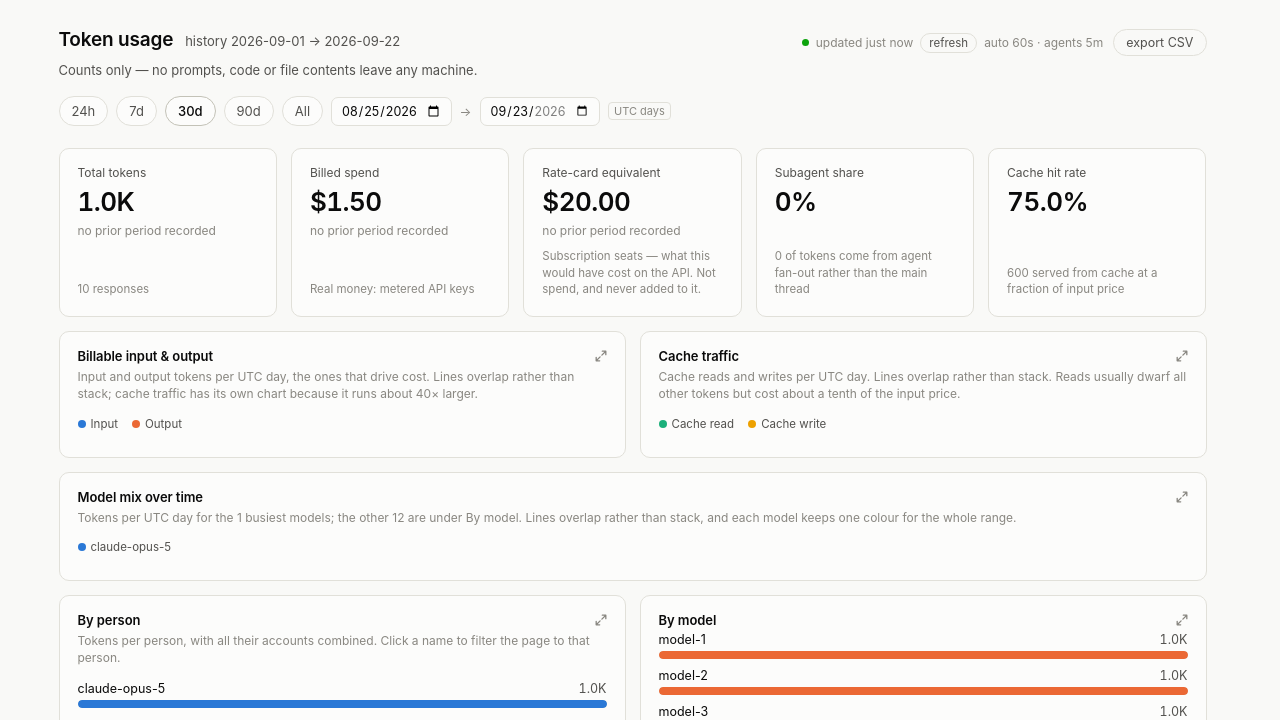
Test: App › expands By model to every model the grid leaves out
Expected: the text "Total tokens" is shown, [78, 165, 146, 180]
Expected: the text "model-12" is not shown
Step 1. Click the button named "Expand By model" → (1182, 620), box [1170, 608, 1194, 632]
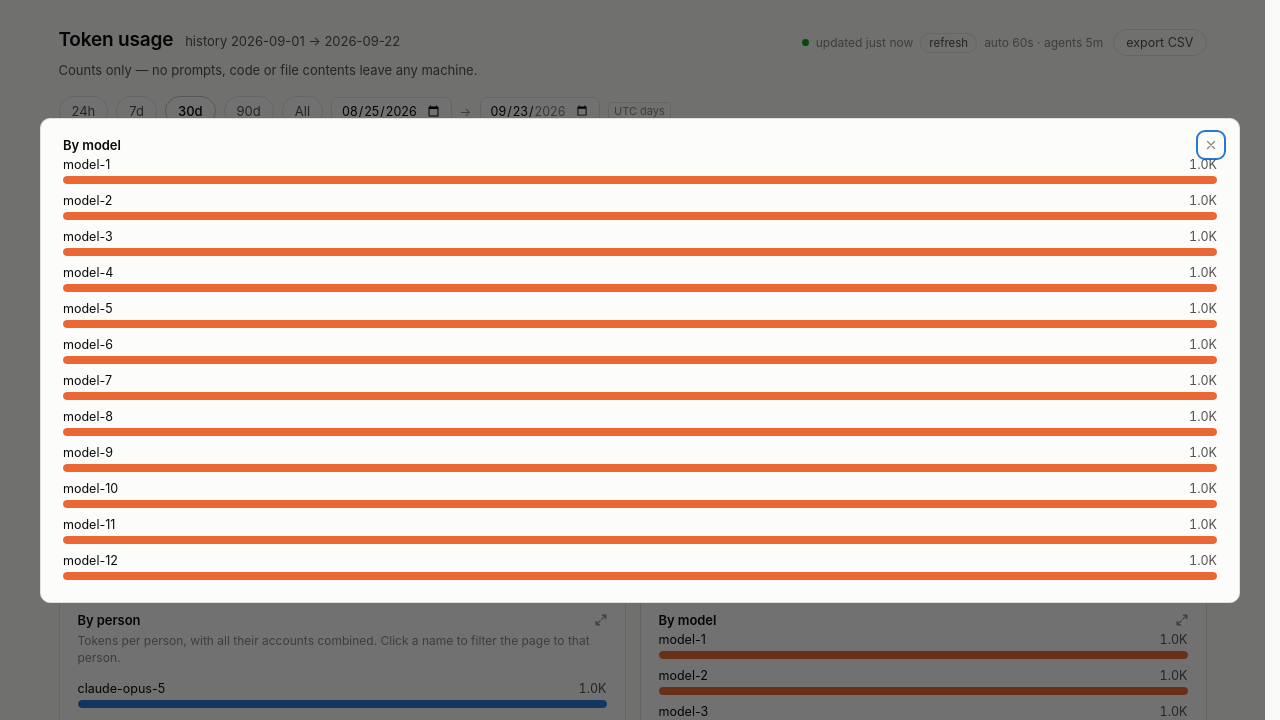
Expected: the text "model-12" is shown, [63, 552, 118, 568]
